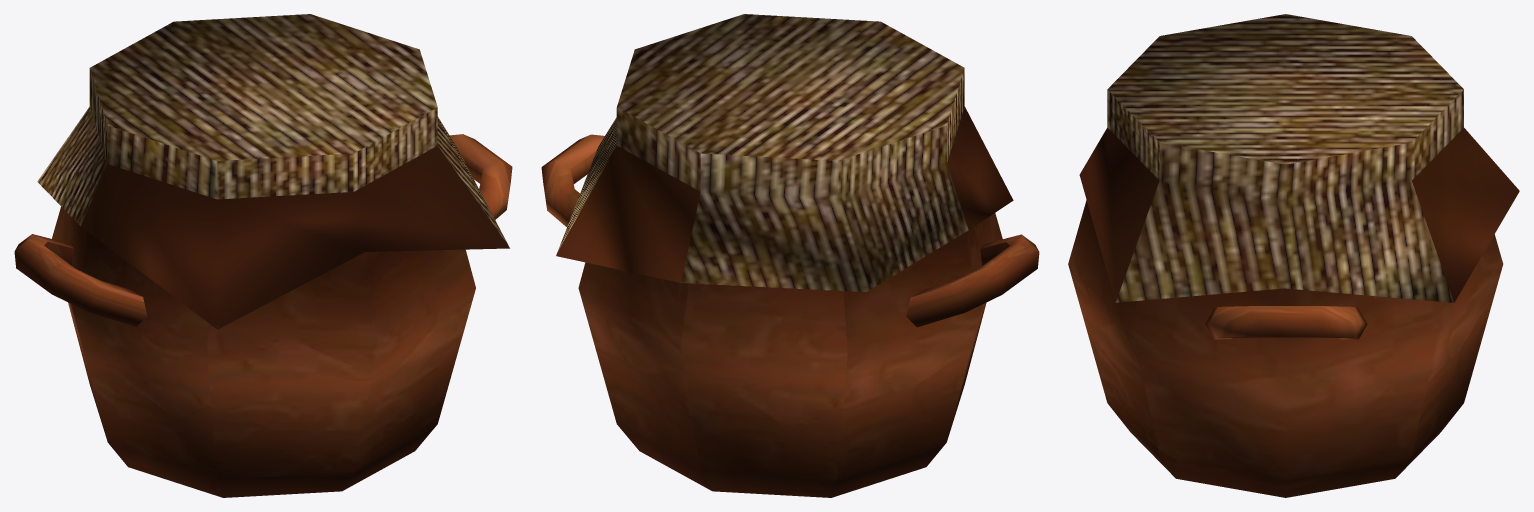
File: ITFO_HONEY.glb
The picture shows the model from 3 angles, left to right: view 1: azimuth 30°, elevation 25°; view 2: azimuth 150°, elevation 25°; view 3: azimuth 270°, elevation 25°; orthographic projection.
Parts seen in each view (by area): view 1: Mesh; view 2: Mesh; view 3: Mesh.
Part boxes in pixels (bbox=[...]): Mesh: bbox=[14, 14, 512, 497]; Mesh: bbox=[541, 14, 1039, 497]; Mesh: bbox=[1068, 14, 1519, 497].
Bounding box in the file's own units: 0.3306 × 0.2377 × 0.2838.
Materials: 1 (1 with a texture image).
